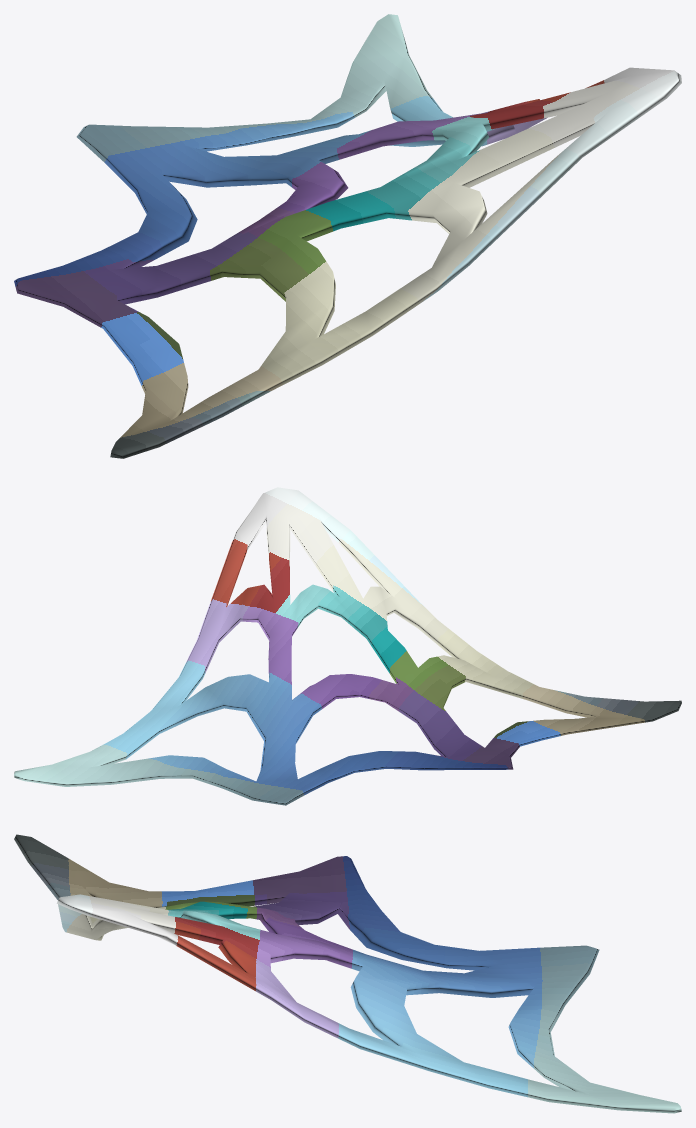
The model's file is Prop_MischiefWeb.glb.
The picture shows the model from 3 angles, top to bottom: view 1: azimuth 30°, elevation 25°; view 2: azimuth 150°, elevation 25°; view 3: azimuth 270°, elevation 25°; orthographic projection. The views are drawn at different scales.
Parts seen in each view (by area): view 1: Prop_MischiefWeb; view 2: Prop_MischiefWeb; view 3: Prop_MischiefWeb.
Boxes of the visible parts, x1=… form: Prop_MischiefWeb: x1=14, y1=14, x2=681, y2=458; Prop_MischiefWeb: x1=14, y1=487, x2=681, y2=805; Prop_MischiefWeb: x1=14, y1=834, x2=681, y2=1113.
Size of the model in its own units: 3.14 by 1.08 by 3.15.
Materials: 1 (1 with a texture image).
